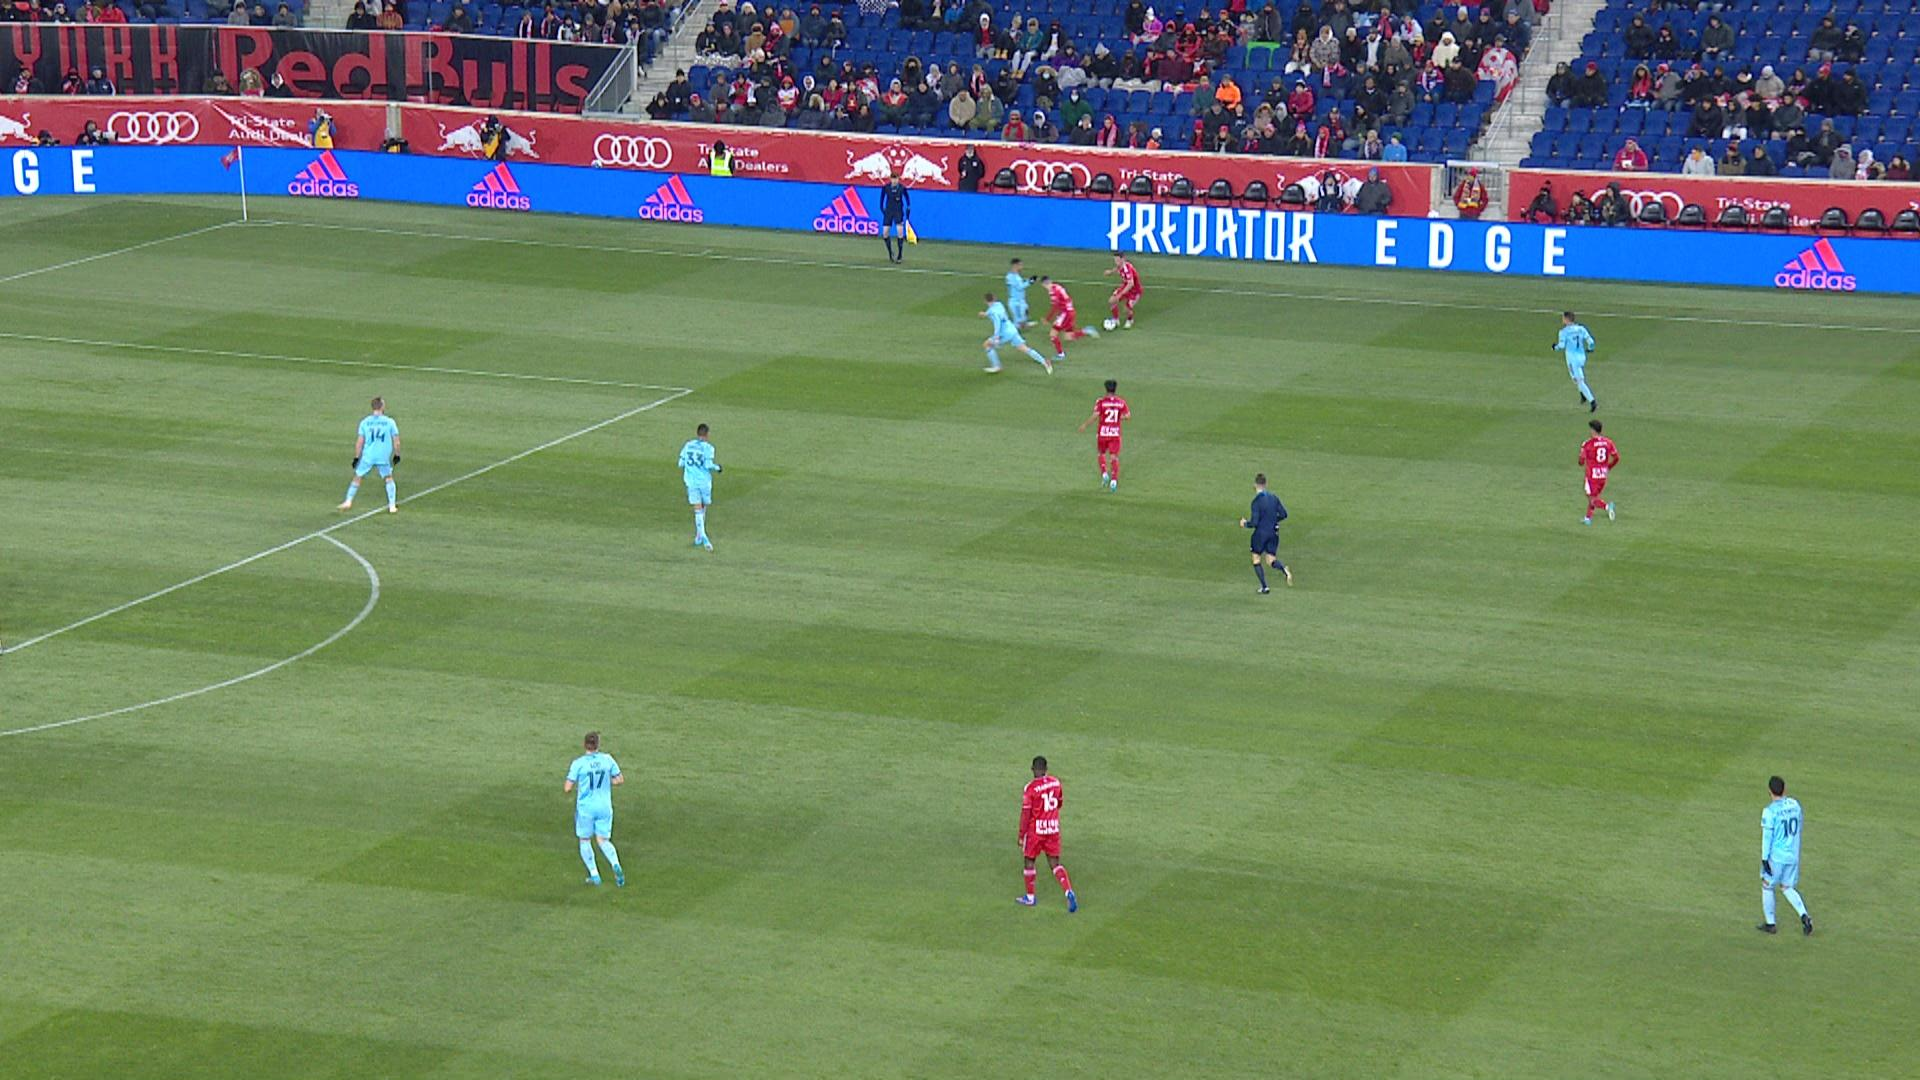football: (1102, 318, 1116, 332)
